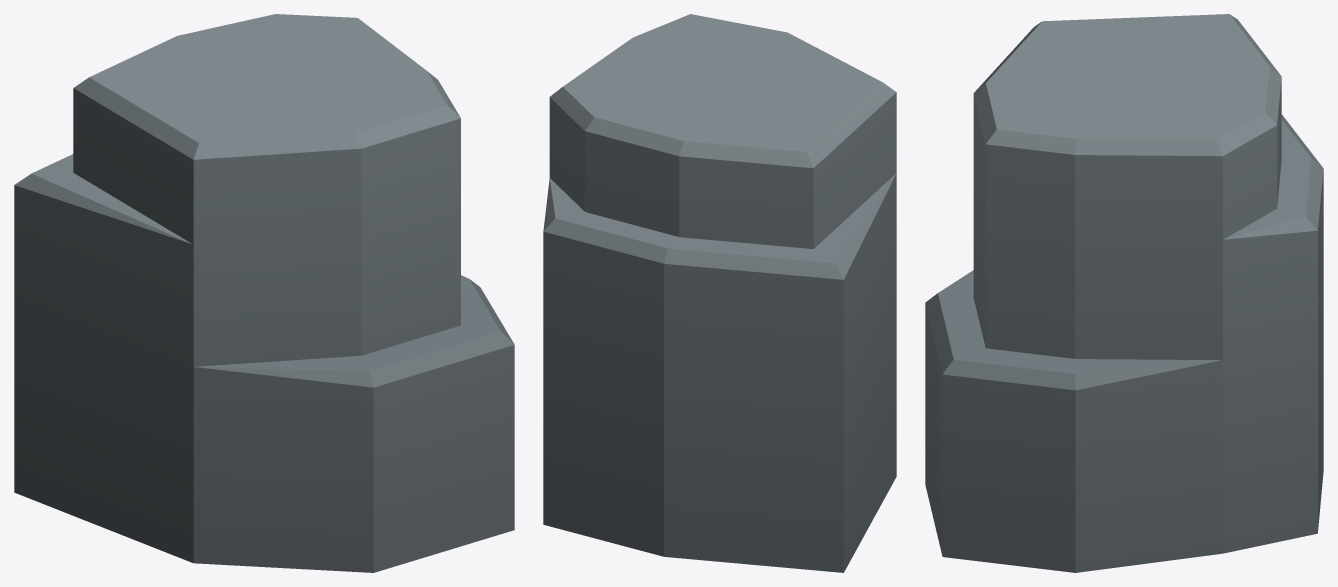
The model's file is kf_rock_1_g.fbx.
The picture shows the model from 3 angles, left to right: view 1: azimuth 30°, elevation 25°; view 2: azimuth 150°, elevation 25°; view 3: azimuth 270°, elevation 25°; orthographic projection. The views are drawn at different scales.
Parts seen in each view (by area): view 1: kf_rock_1_g; view 2: kf_rock_1_g; view 3: kf_rock_1_g.
Part boxes in pixels (x1=…): kf_rock_1_g: x1=14, y1=14, x2=514, y2=572; kf_rock_1_g: x1=543, y1=14, x2=896, y2=572; kf_rock_1_g: x1=925, y1=14, x2=1323, y2=572.
Size of the model in its own units: 4.19 by 4.48 by 3.96.
Materials: 1 (1 with a texture image).
